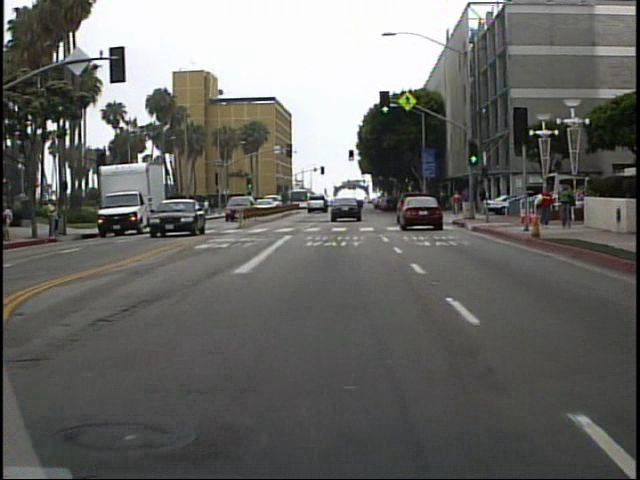person: (45, 194, 63, 240), (448, 190, 464, 218)
